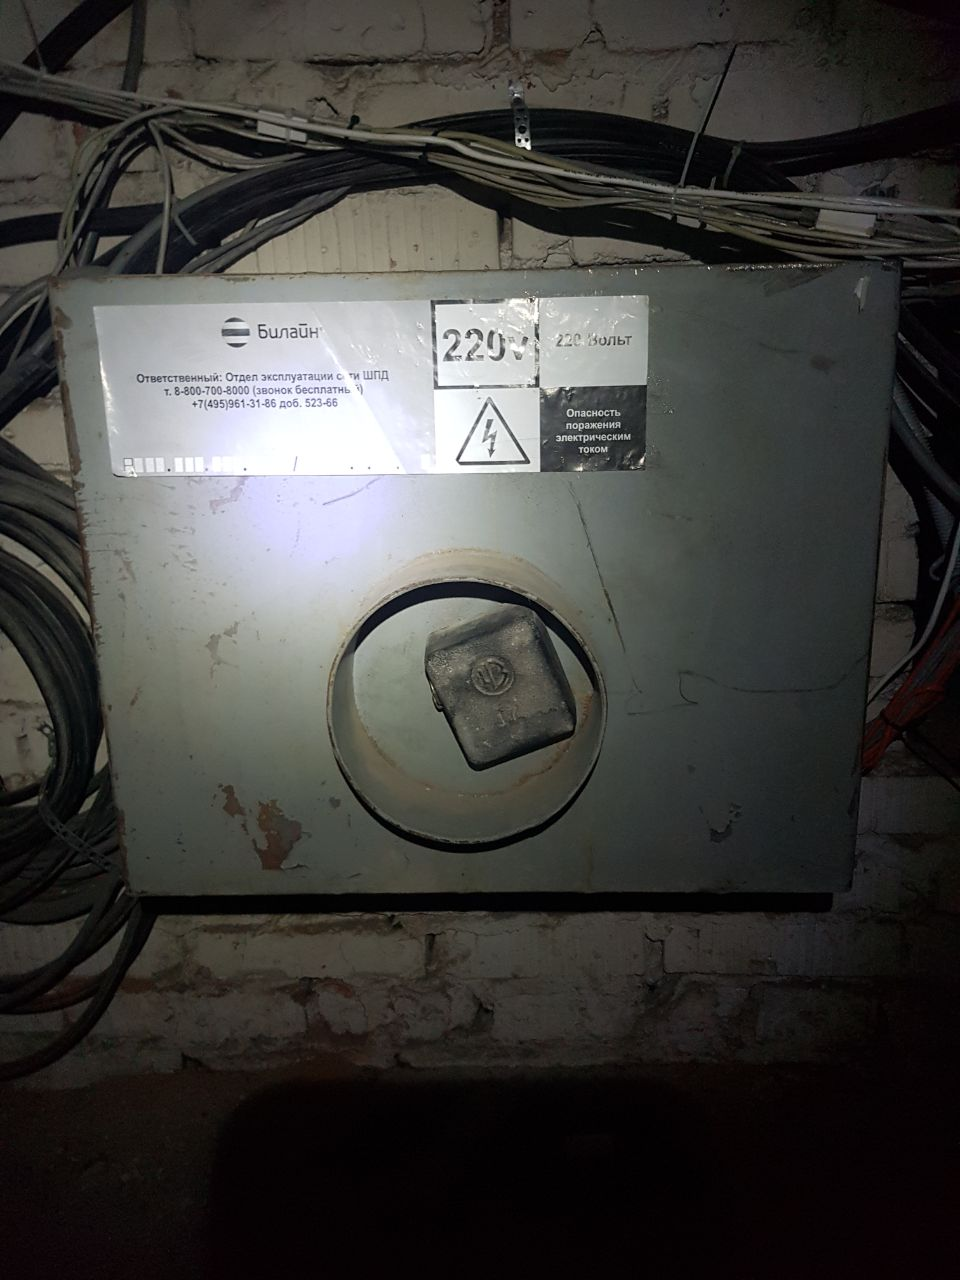shta-3: (41, 252, 911, 900)
